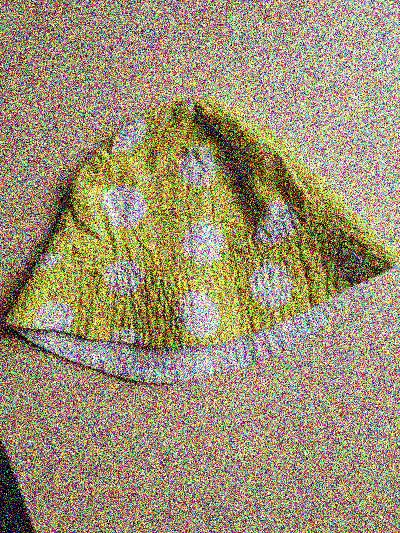Hat: (10, 103, 375, 367)
